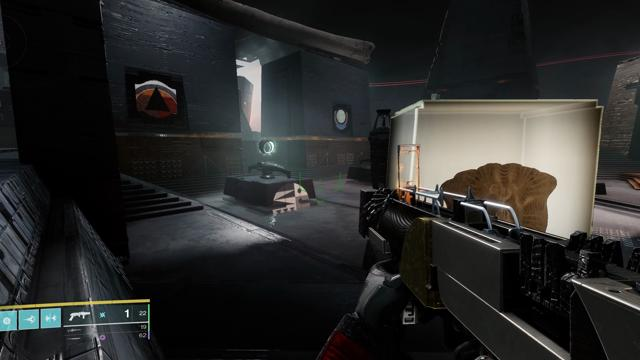pyramid: (134, 80, 176, 119)
traveler: (334, 108, 348, 130)
